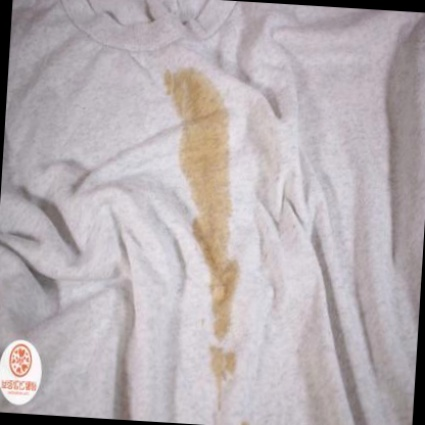coffee: (185, 135, 229, 193), (177, 74, 219, 132), (211, 258, 236, 338), (195, 195, 230, 248)
